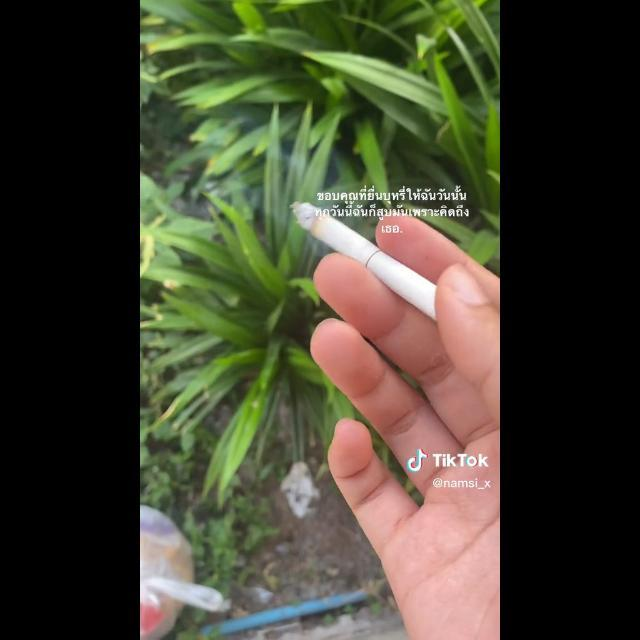rokok: (279, 192, 459, 321)
